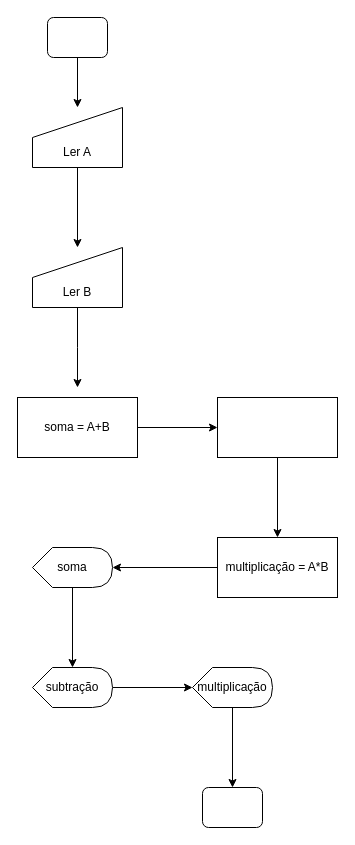
This 355x845 diagram has some shape labels left out. The shapes that lost their labels are listed below. From the top down, each one's box as (x1, y1, x2, y2) in pixels, then its label:
(46, 16, 108, 58): Início
(216, 396, 338, 458): subtração = A-B
(202, 786, 262, 828): Fim
